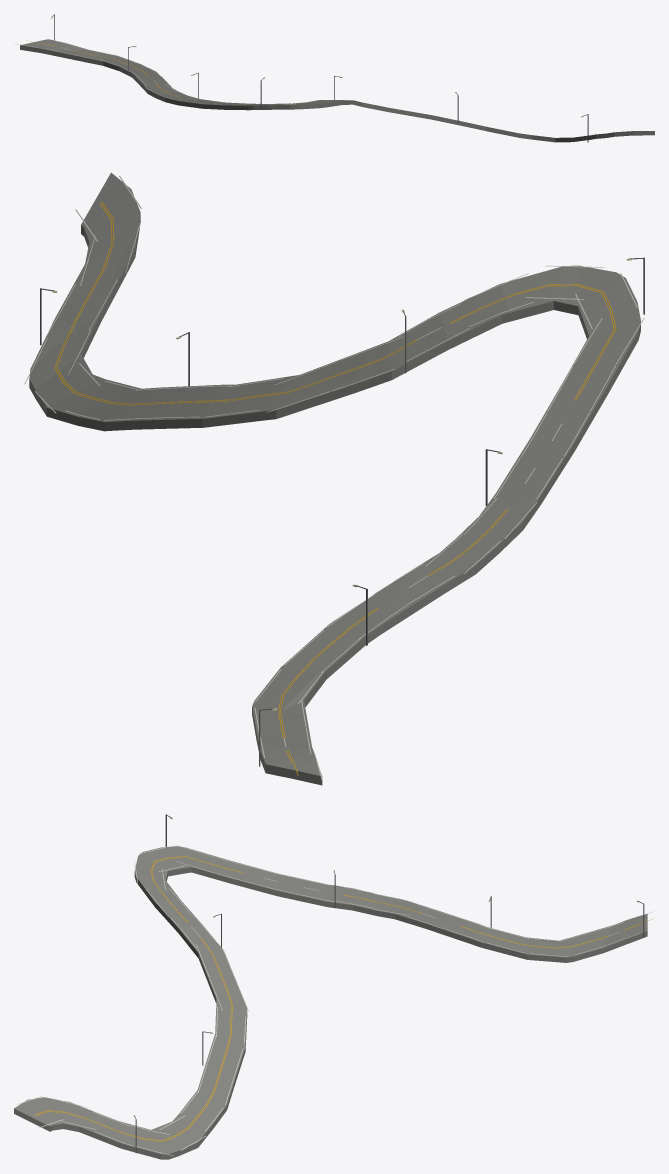
3 views of the same model, one above another, from view 1: azimuth 30°, elevation 25°; view 2: azimuth 150°, elevation 25°; view 3: azimuth 270°, elevation 25° (orthographic). The views are drawn at different scales.
Bounding box in the file's own units: 106 × 37 × 129.
